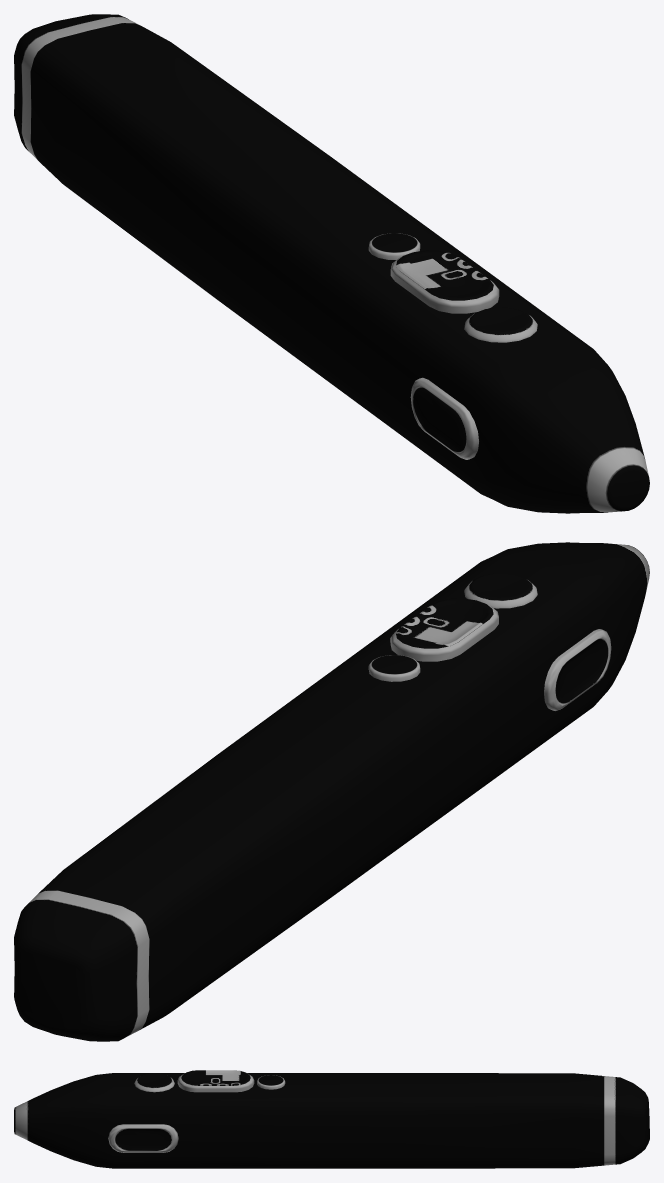
The model's file is LogiPenControllerGeometry.fbx.
3 views of the same model, one above another, from view 1: azimuth 30°, elevation 25°; view 2: azimuth 150°, elevation 25°; view 3: azimuth 270°, elevation 25° (orthographic). The views are drawn at different scales.
Visible parts, largest first — view 1: LogiPenController, LogiPen_RGrip, LogiPen_TouchPad, LogiPen_Trigger, LogiPen_TouchPadRing, LogiPen_SystemButton; view 2: LogiPenController, LogiPen_RGrip, LogiPen_TouchPad, LogiPen_Trigger, LogiPen_TouchPadRing, LogiPen_SystemButton; view 3: LogiPenController, LogiPen_LGrip, LogiPen_TouchPad, LogiPen_Trigger, LogiPen_TouchPadRing, LogiPen_SystemButton.
Boxes of the visible parts, x1,y1,x2,y2 form: LogiPenController: (14, 14, 649, 513); LogiPen_RGrip: (410, 377, 478, 459); LogiPen_TouchPad: (396, 250, 493, 300); LogiPen_Trigger: (464, 307, 537, 342); LogiPen_TouchPadRing: (390, 256, 499, 313); LogiPen_SystemButton: (368, 233, 420, 259); LogiPenController: (14, 542, 649, 1041); LogiPen_RGrip: (544, 629, 611, 710); LogiPen_TouchPad: (396, 598, 493, 648); LogiPen_Trigger: (464, 573, 537, 608); LogiPen_TouchPadRing: (390, 604, 498, 661); LogiPen_SystemButton: (368, 655, 420, 681); LogiPenController: (14, 1073, 649, 1168); LogiPen_LGrip: (108, 1124, 178, 1152); LogiPen_TouchPad: (181, 1070, 250, 1085); LogiPen_Trigger: (134, 1073, 174, 1092); LogiPen_TouchPadRing: (177, 1073, 254, 1092); LogiPen_SystemButton: (257, 1075, 285, 1089).
Bounding box in the file's own units: 2.21 × 2.18 × 15.64.
